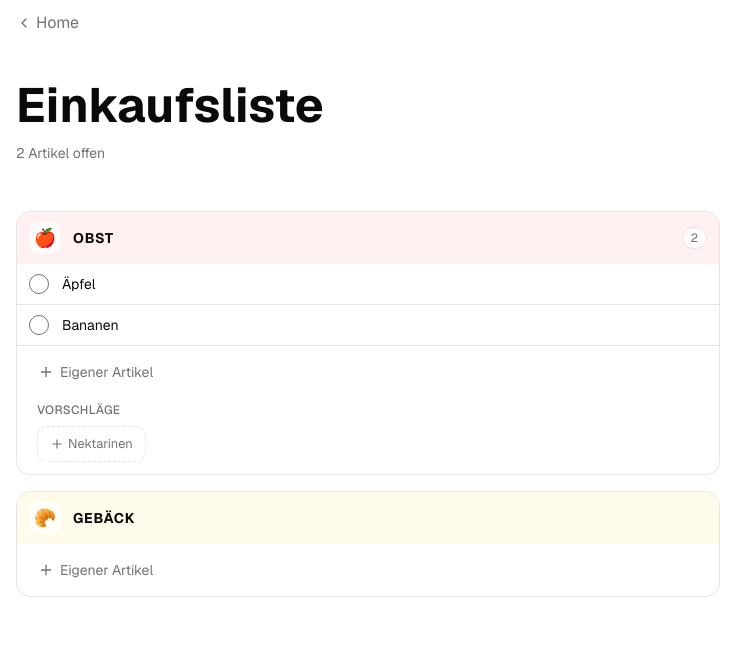
Scenario: adding an item › discards a draft on Escape, without touching the server
Click the button "Eigener Artikel" below "Gebäck" at (107, 570), box [29,552,707,588]
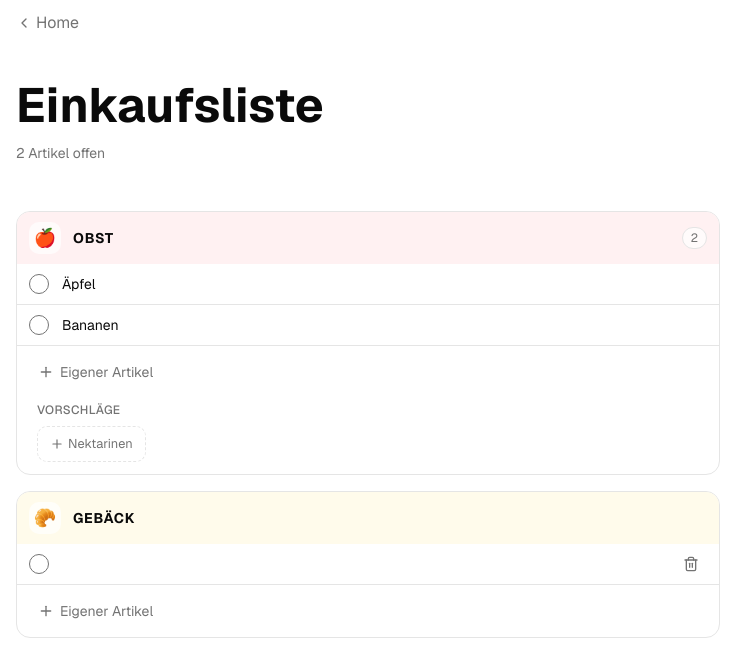
Type keys "Semmeln{Escape}"
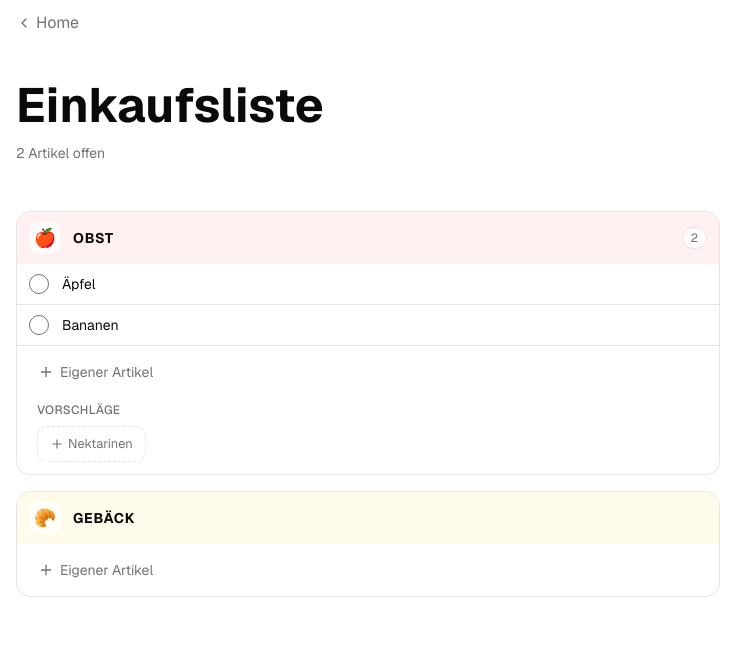
Check: the field is gone
